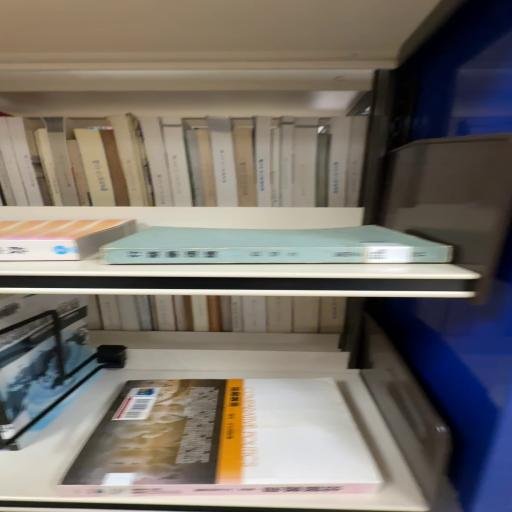flat: (60, 379, 384, 498), (102, 226, 453, 265), (1, 221, 138, 262)
